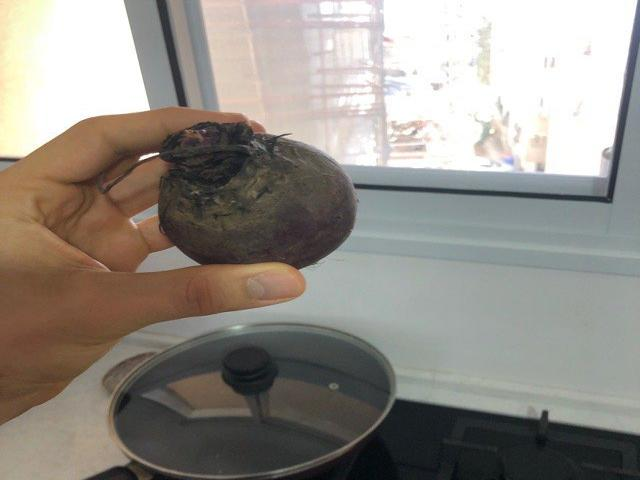beet: (100, 121, 357, 271)
